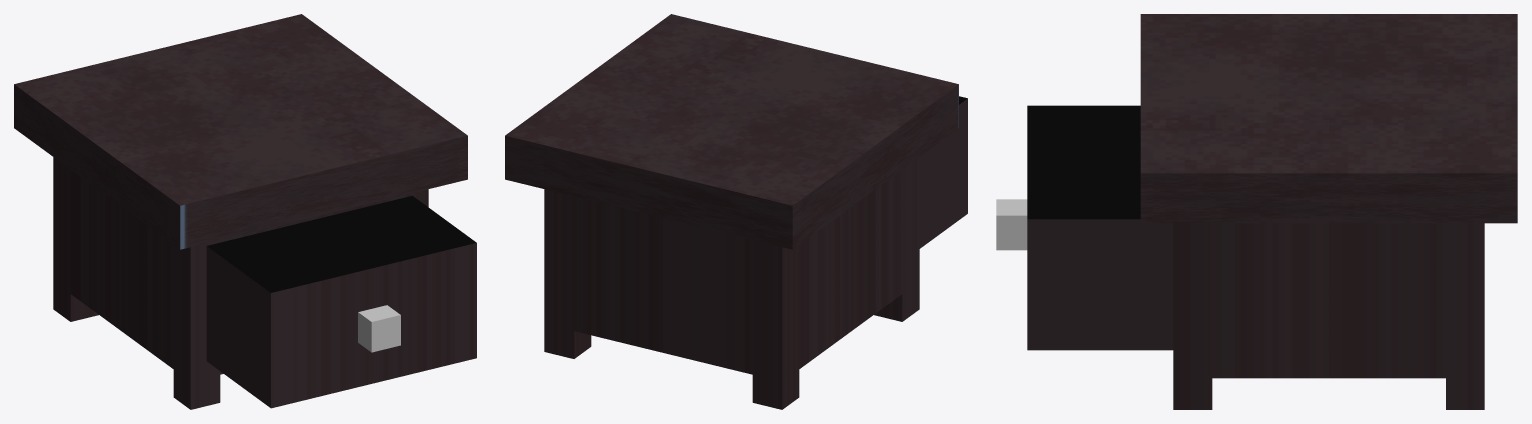
Rendered from prop_drawer_open.obj.
3 renders of one model, left to right at view 1: azimuth 30°, elevation 25°; view 2: azimuth 150°, elevation 25°; view 3: azimuth 270°, elevation 25°, orthographic. The views are drawn at different scales.
Visible parts, largest first — view 1: Drawer_(Open); view 2: Drawer_(Open); view 3: Drawer_(Open).
Part boxes in pixels (<box>): Drawer_(Open): <box>14,14,476,409</box>; Drawer_(Open): <box>505,14,967,409</box>; Drawer_(Open): <box>996,14,1517,409</box>.
Size of the model in its own units: 2 by 1.47 by 2.76.
